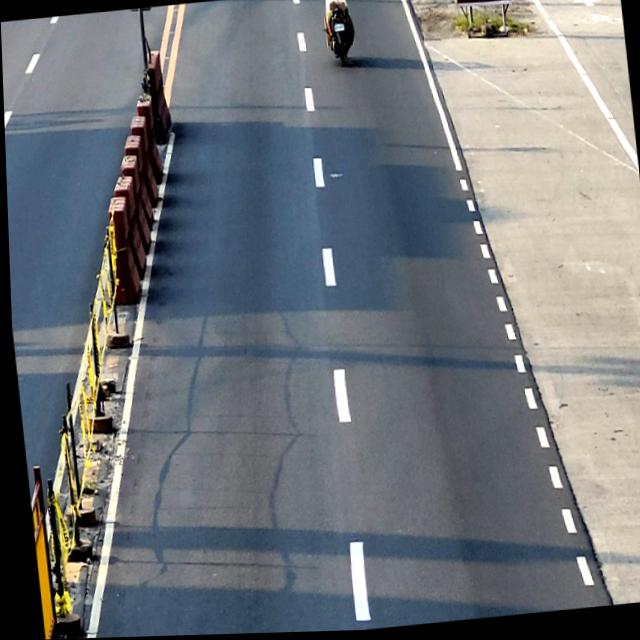License-Plate: (332, 25, 345, 34)
Motorcycle: (321, 0, 353, 68)
